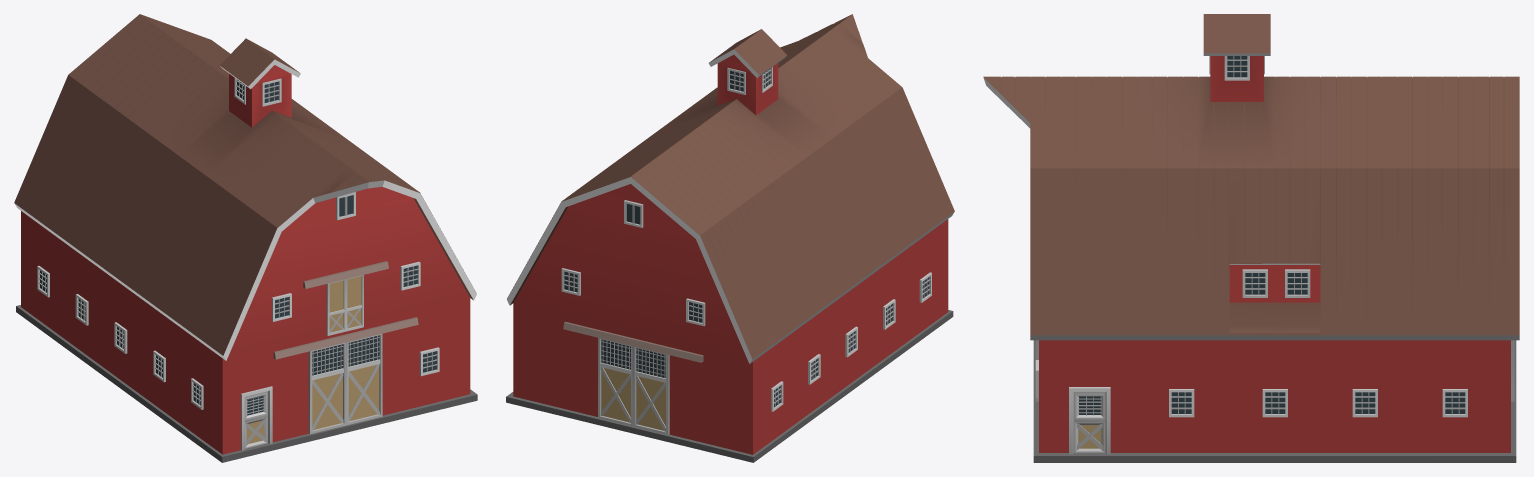
File: hangar_015.glb
3 views of the same model, side by side, from view 1: azimuth 30°, elevation 25°; view 2: azimuth 150°, elevation 25°; view 3: azimuth 270°, elevation 25° (orthographic). The views are drawn at different scales.
Parts seen in each view (by area): view 1: hangar_015; view 2: hangar_015; view 3: hangar_015.
Boxes of the visible parts, x1,y1,x2,y2 form: hangar_015: (14, 14, 477, 462); hangar_015: (506, 14, 954, 462); hangar_015: (983, 14, 1519, 462).
Size of the model in its own units: 11.52 by 13.76 by 17.86.
1 material, 1 textured.
